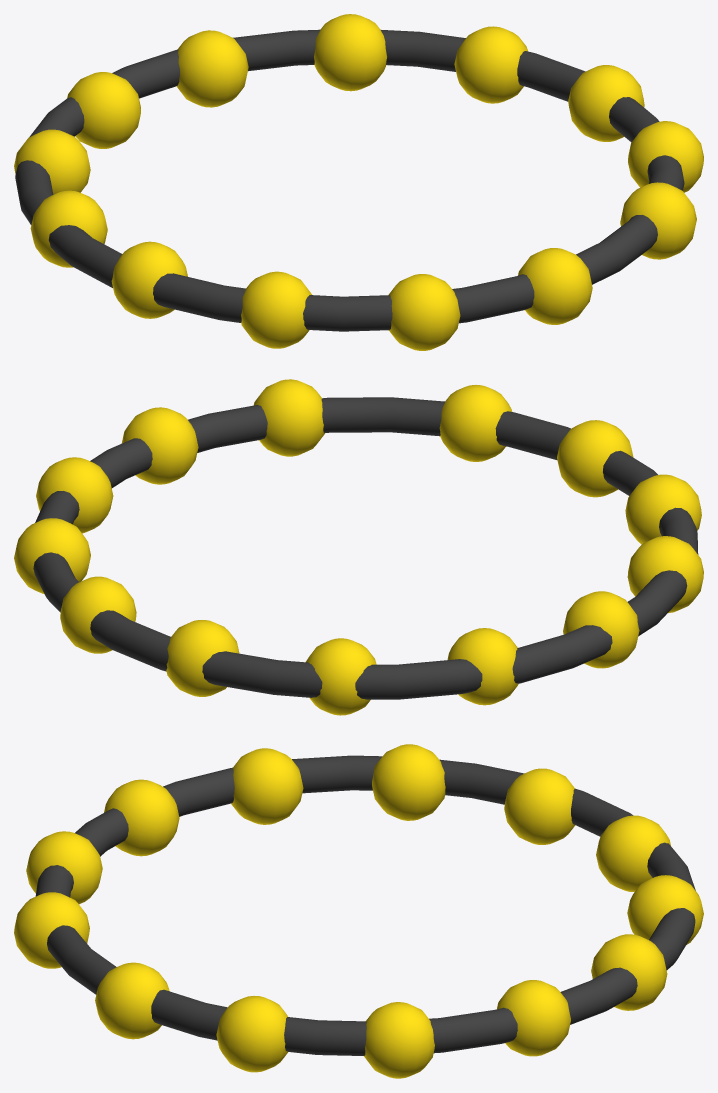
3 views of the same model, one above another, from view 1: azimuth 30°, elevation 25°; view 2: azimuth 150°, elevation 25°; view 3: azimuth 270°, elevation 25° (orthographic).
Parts seen in each view (by area): view 1: Elec_Neck_001, Torus.002; view 2: Elec_Neck_001, Torus.002; view 3: Elec_Neck_001, Torus.002.
Part boxes in pixels (left/top/right/bottom): Elec_Neck_001: left=14, top=14, right=703, bottom=350; Torus.002: left=15, top=29, right=684, bottom=331; Elec_Neck_001: left=14, top=379, right=703, bottom=715; Torus.002: left=33, top=397, right=698, bottom=699; Elec_Neck_001: left=14, top=744, right=703, bottom=1078; Torus.002: left=35, top=755, right=695, bottom=1055.
Size of the model in its own units: 56.64 by 56.99 by 6.34.
